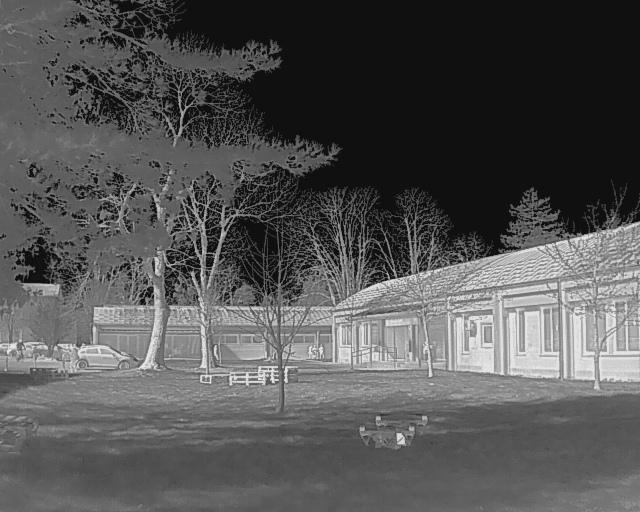drone: (328, 392, 451, 458)
